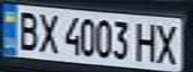0: (93, 16, 115, 58), (78, 15, 96, 57)
3: (112, 18, 133, 61)
4: (60, 14, 81, 56)
B: (12, 7, 42, 52)
H: (133, 19, 160, 63)
X: (151, 20, 184, 65), (33, 9, 60, 54)
